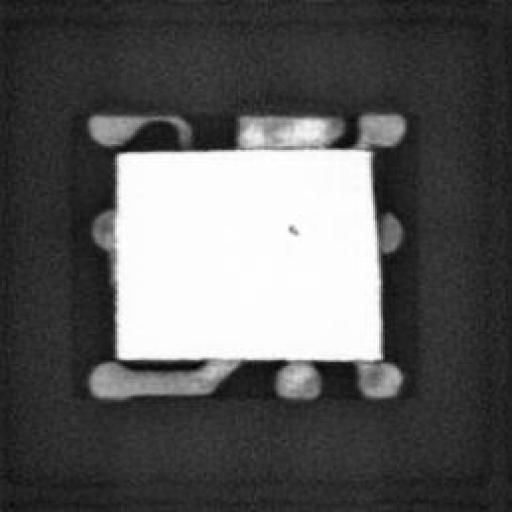DIE_BROKEN: (365, 144, 381, 218)
DIE_INK: (282, 220, 302, 237)
